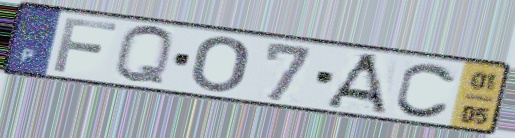7: (261, 39, 316, 104)
A: (322, 52, 389, 117)
C: (393, 61, 460, 121)
F: (50, 15, 121, 75)
O: (188, 35, 253, 95)
Q: (111, 23, 176, 88)
